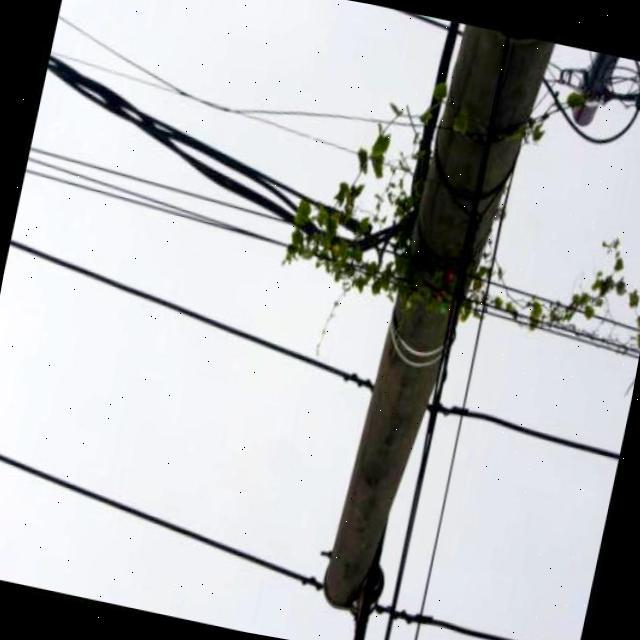critical vegetation: (246, 64, 543, 636)
